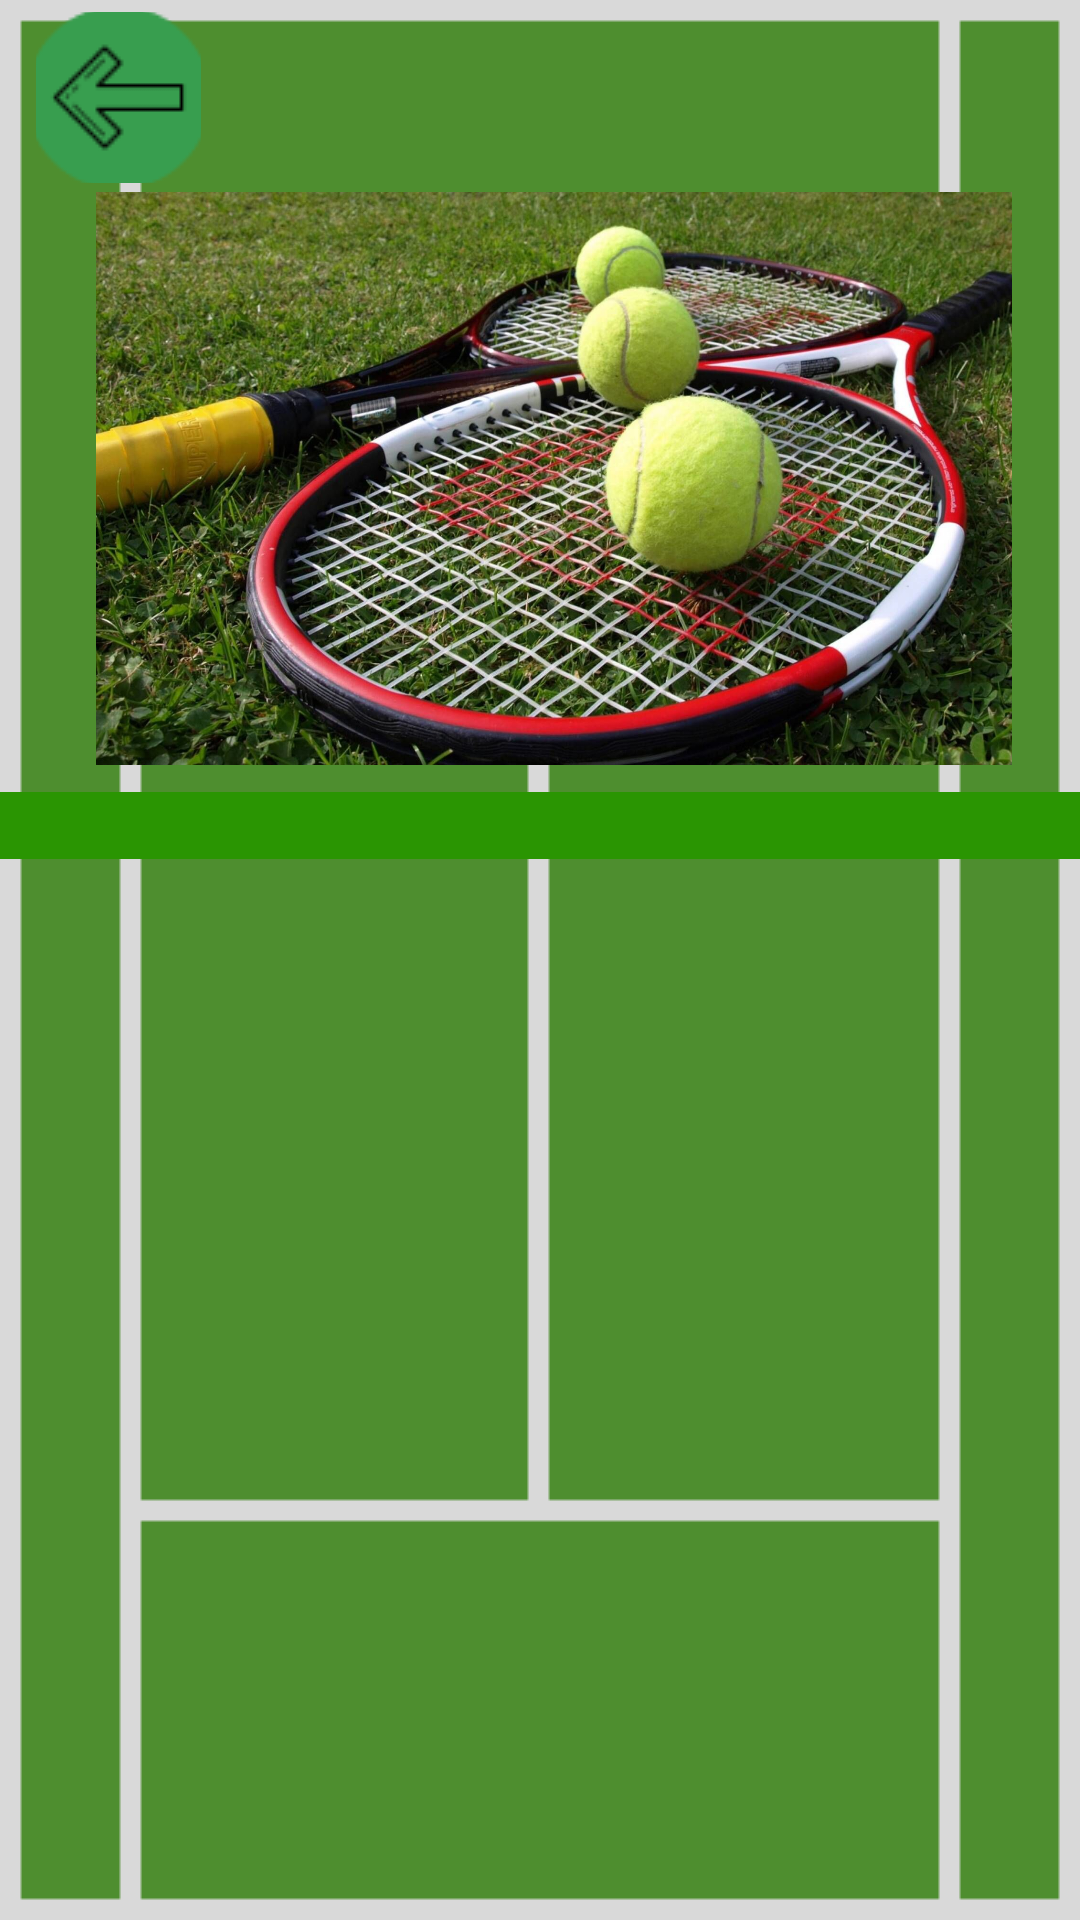

Where icons sit on this 1080x1920 app screen, as box(x1, y1, x2, y2):
strelka: box(36, 12, 201, 183)
